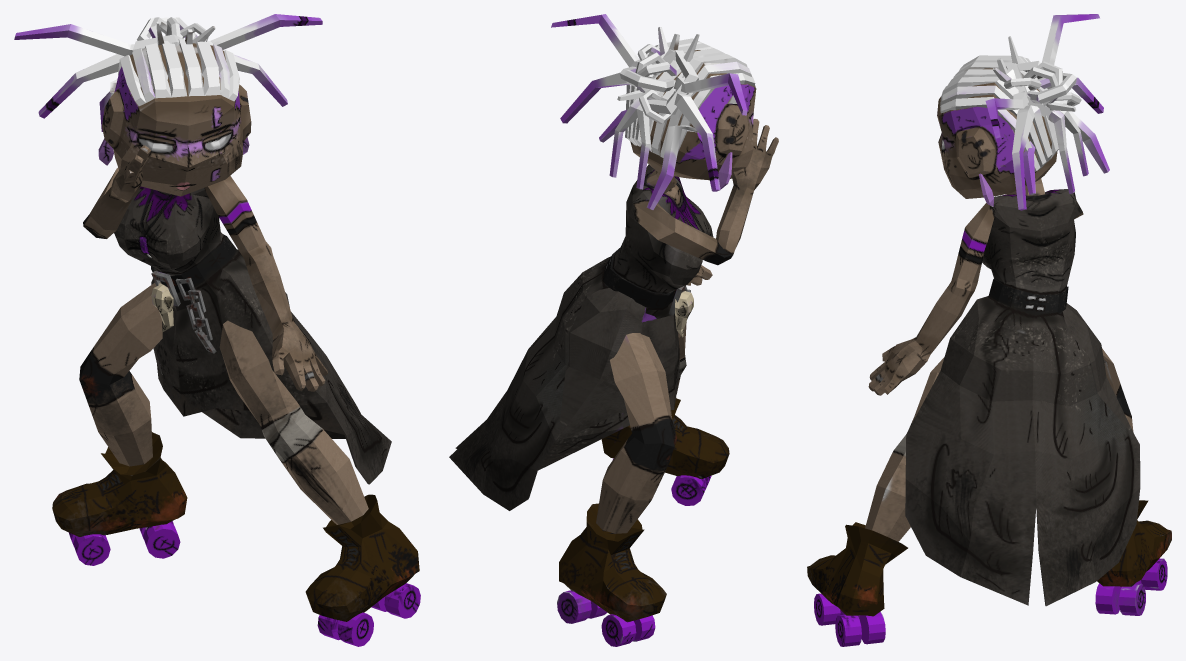
Rendered from bruja_000017.obj.
3 views of the same model, side by side, from view 1: azimuth 30°, elevation 25°; view 2: azimuth 150°, elevation 25°; view 3: azimuth 270°, elevation 25° (orthographic). The views are drawn at different scales.
Visible parts, largest first — view 1: Bruja_Plane.001; view 2: Bruja_Plane.001; view 3: Bruja_Plane.001.
Boxes of the visible parts, x1,y1,x2,y2 form: Bruja_Plane.001: [14, 14, 420, 646]; Bruja_Plane.001: [449, 14, 778, 646]; Bruja_Plane.001: [807, 14, 1171, 646].
Size of the model in its own units: 9.39 by 15.44 by 9.24.
